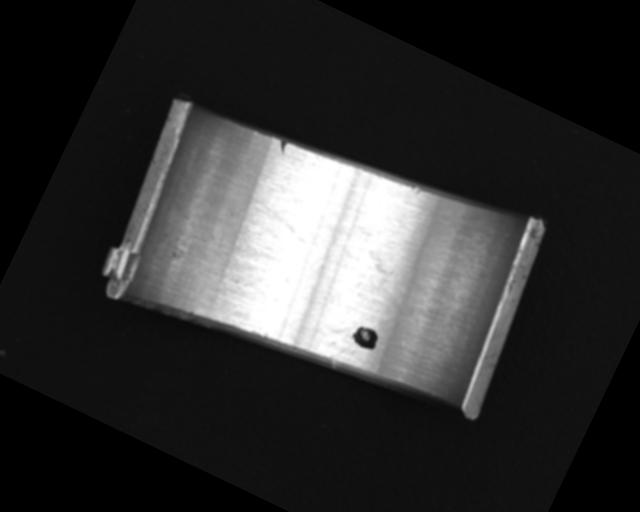blot: (348, 247, 419, 314), (348, 321, 383, 353)
bruise: (274, 138, 290, 156), (411, 184, 423, 195)
